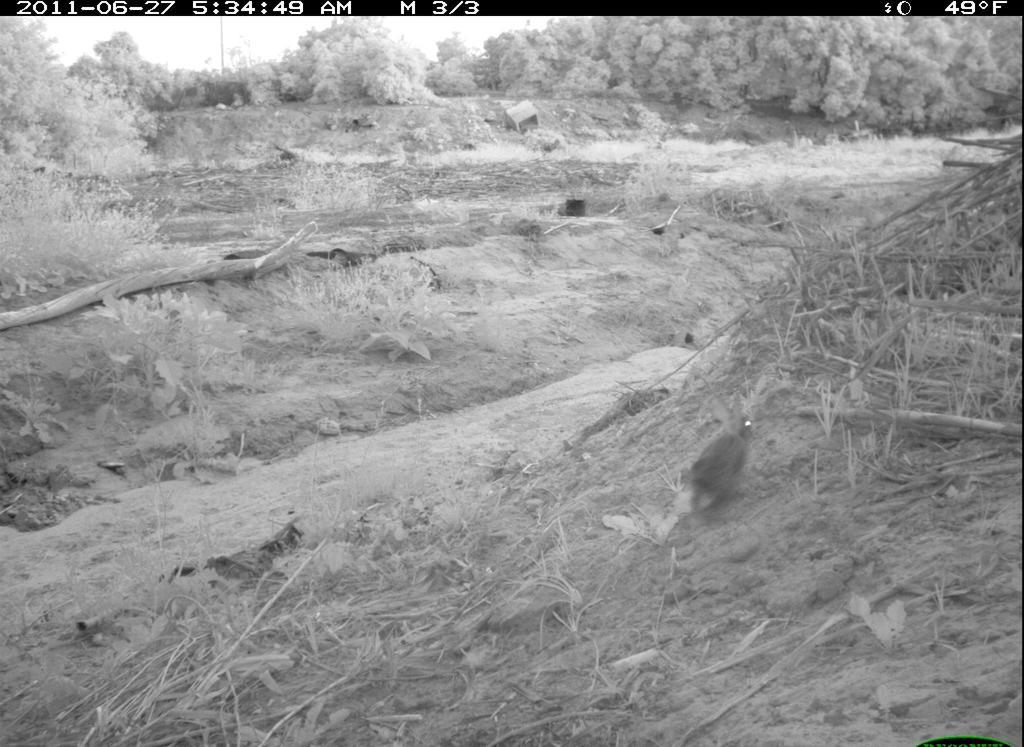rabbit: (669, 381, 774, 534)
